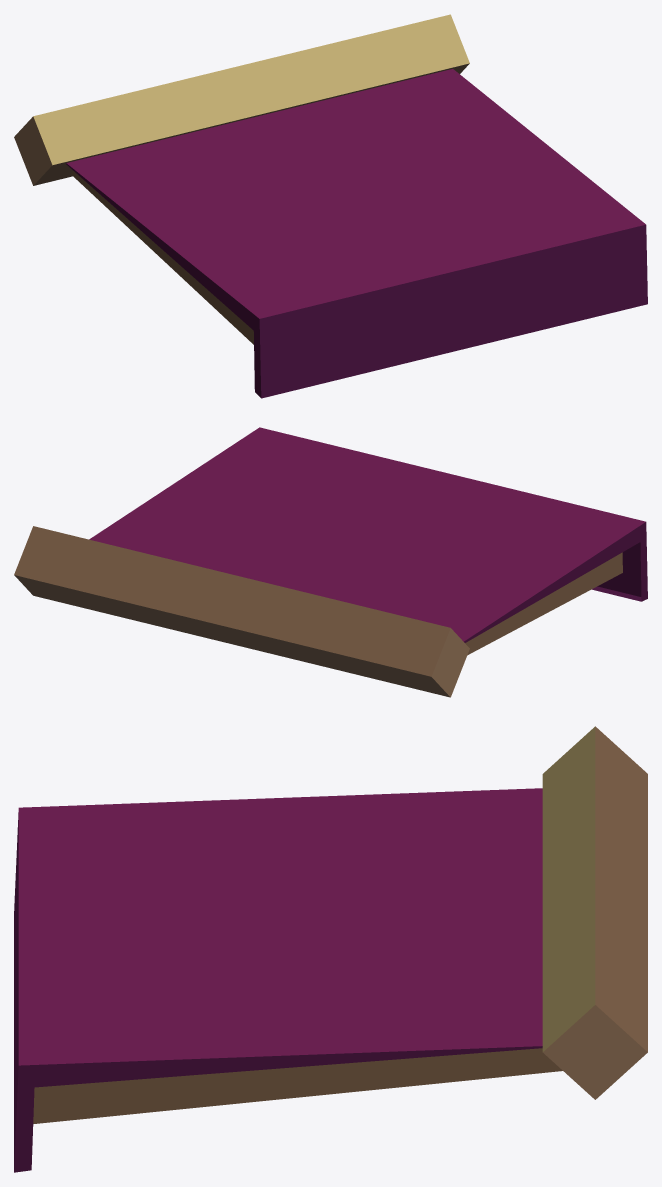
Rendered from TB_D_Bd_Canopy_Sol_E.FBX.
The picture shows the model from 3 angles, top to bottom: view 1: azimuth 30°, elevation 25°; view 2: azimuth 150°, elevation 25°; view 3: azimuth 270°, elevation 25°; orthographic projection. The views are drawn at different scales.
Parts seen in each view (by area): view 1: TB_D_Bd_Canopy_Sol_E; view 2: TB_D_Bd_Canopy_Sol_E; view 3: TB_D_Bd_Canopy_Sol_E.
Part boxes in pixels (bbox=[...]): TB_D_Bd_Canopy_Sol_E: bbox=[14, 14, 647, 398]; TB_D_Bd_Canopy_Sol_E: bbox=[14, 427, 647, 697]; TB_D_Bd_Canopy_Sol_E: bbox=[14, 726, 647, 1172].
Bounding box in the file's own units: 1.88 × 0.5606 × 1.81.
